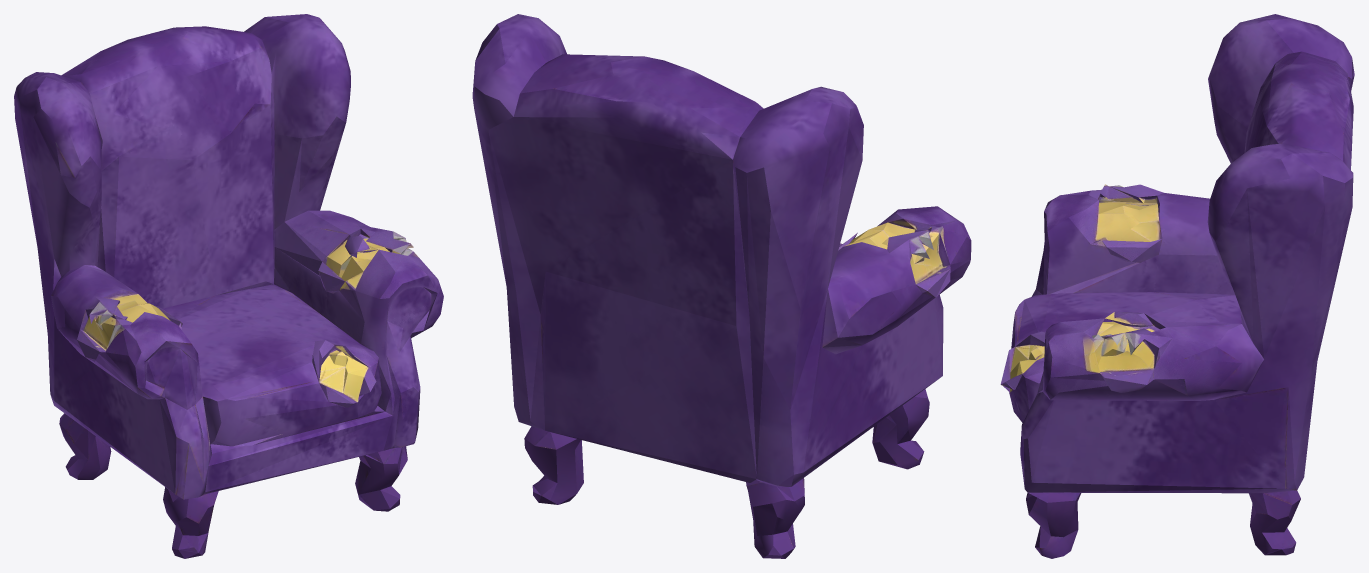
Rendered from armchair.glb.
3 renders of one model, left to right at view 1: azimuth 30°, elevation 25°; view 2: azimuth 150°, elevation 25°; view 3: azimuth 270°, elevation 25°, orthographic. The views are drawn at different scales.
Bounding box in the file's own units: 1.61 × 1.89 × 1.43.
Materials: 1 (1 with a texture image).
